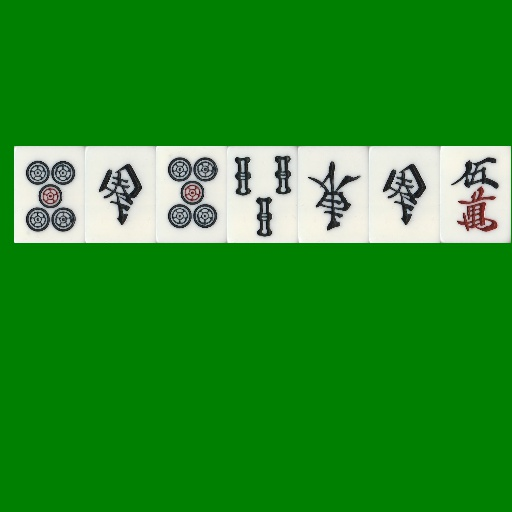3s: (227, 146, 298, 243)
5m: (440, 146, 511, 243)
5p: (14, 146, 85, 243), (156, 146, 227, 243)
east: (298, 146, 369, 243)
south: (85, 146, 156, 243), (369, 146, 440, 243)
